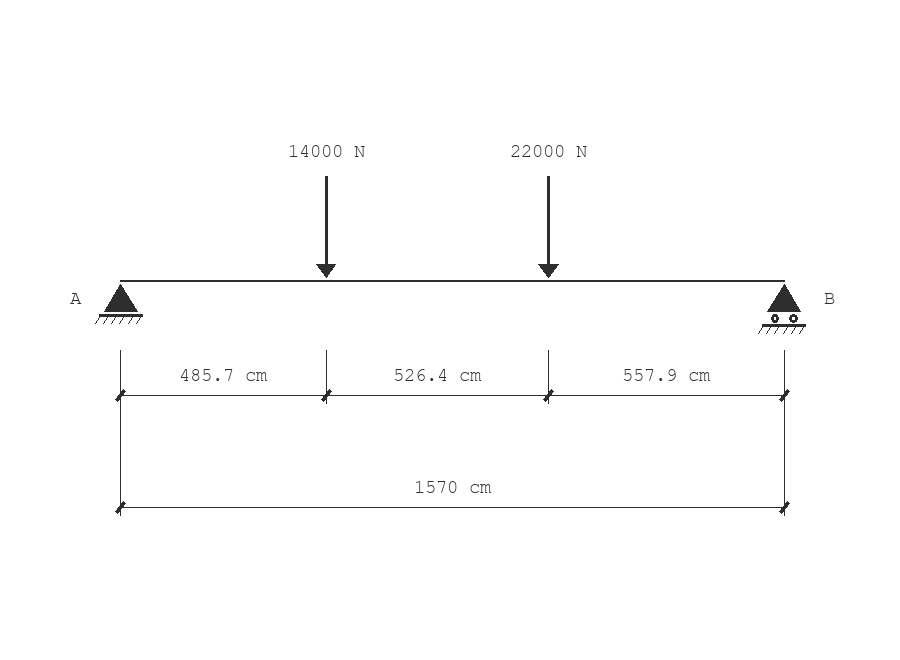pin_support: (95, 284, 143, 324)
point_load: (538, 176, 559, 278), (316, 176, 336, 278)
roller_support: (758, 284, 806, 334)
